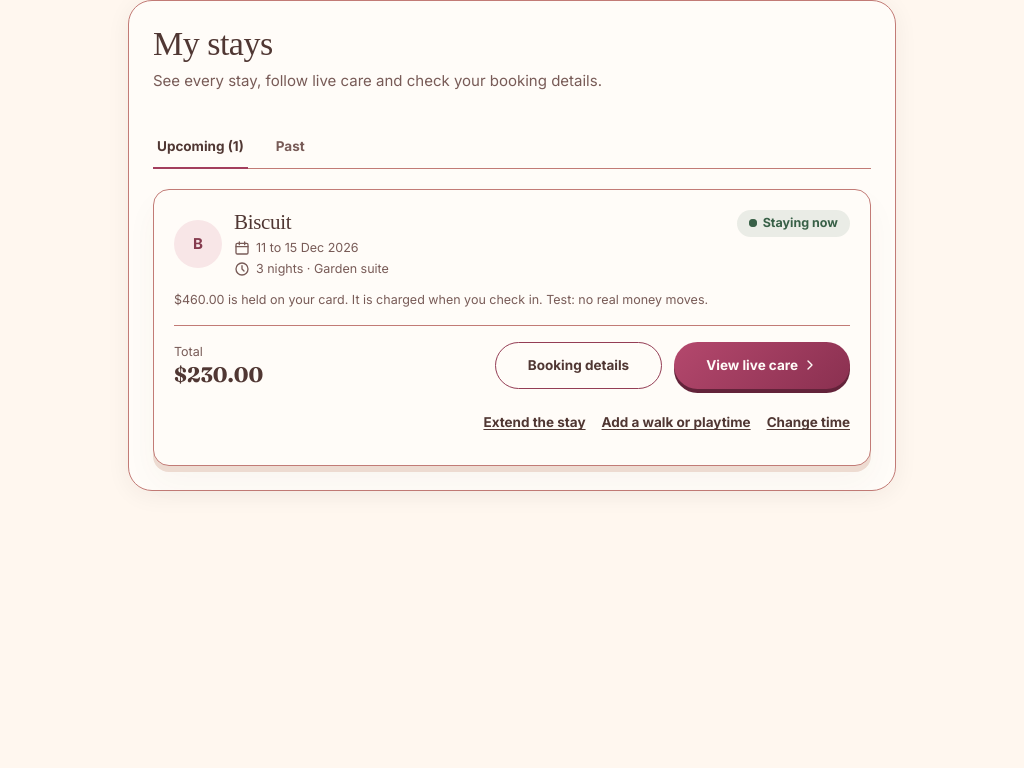
it: changes while the pet is staying › extends a booking without a saved card and puts the nights on the bill for check-out
Click the button "Extend the stay": click(534, 423) [483,401,586,445]
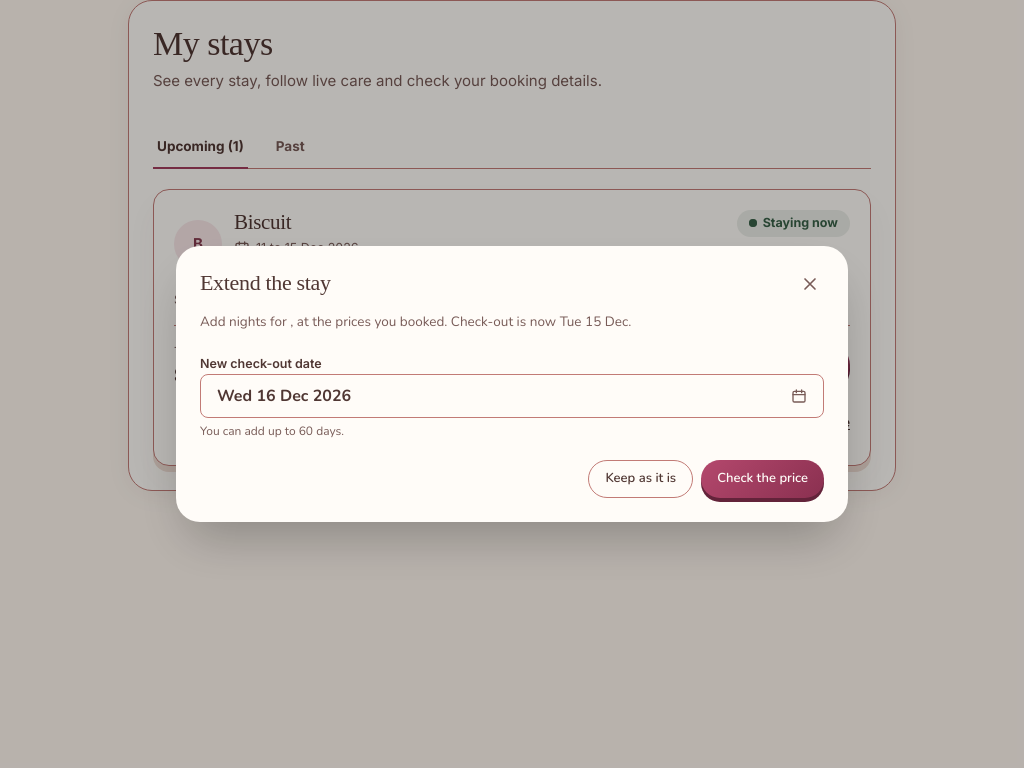
Click the button "Check the price": click(763, 479) [701,460,824,498]
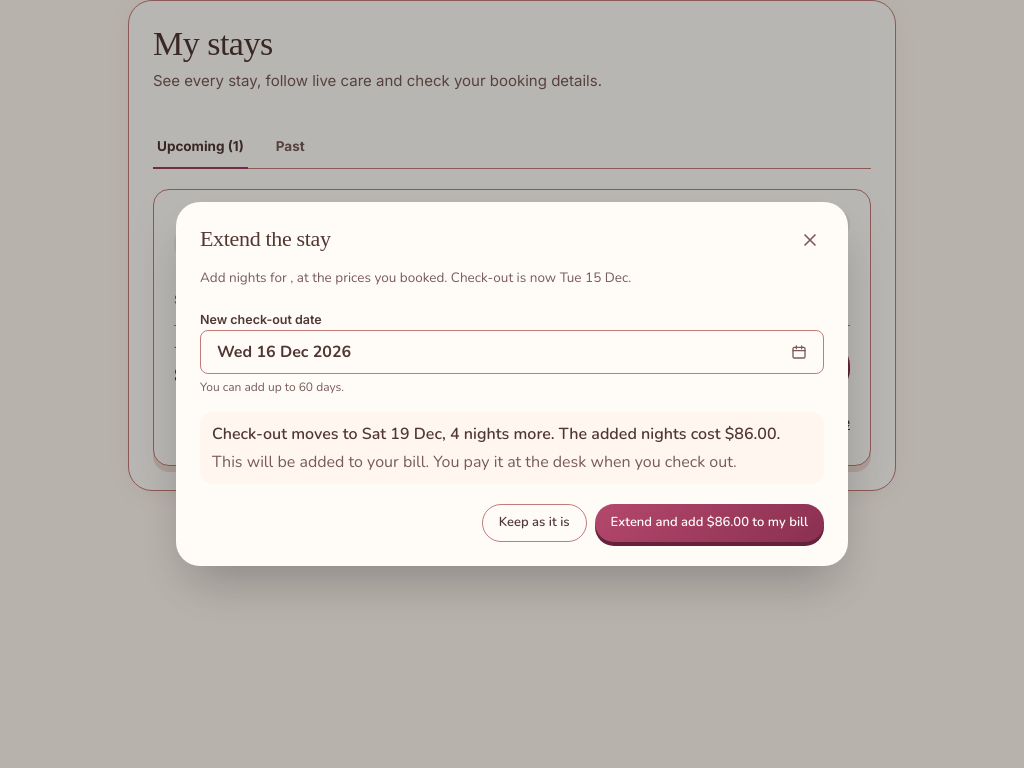
expect the message does not show "charged to your saved card": met, box [200,412,824,484]
expect the message shows "The added nights cost $86.00.": met, box [212,423,780,445]
expect the message shows "This will be added to your bill. You pay it at the desk when you check out.": met, box [212,451,737,473]
Click the button "Extend and add $86.00 to my bill": click(709, 523) [595,504,824,542]
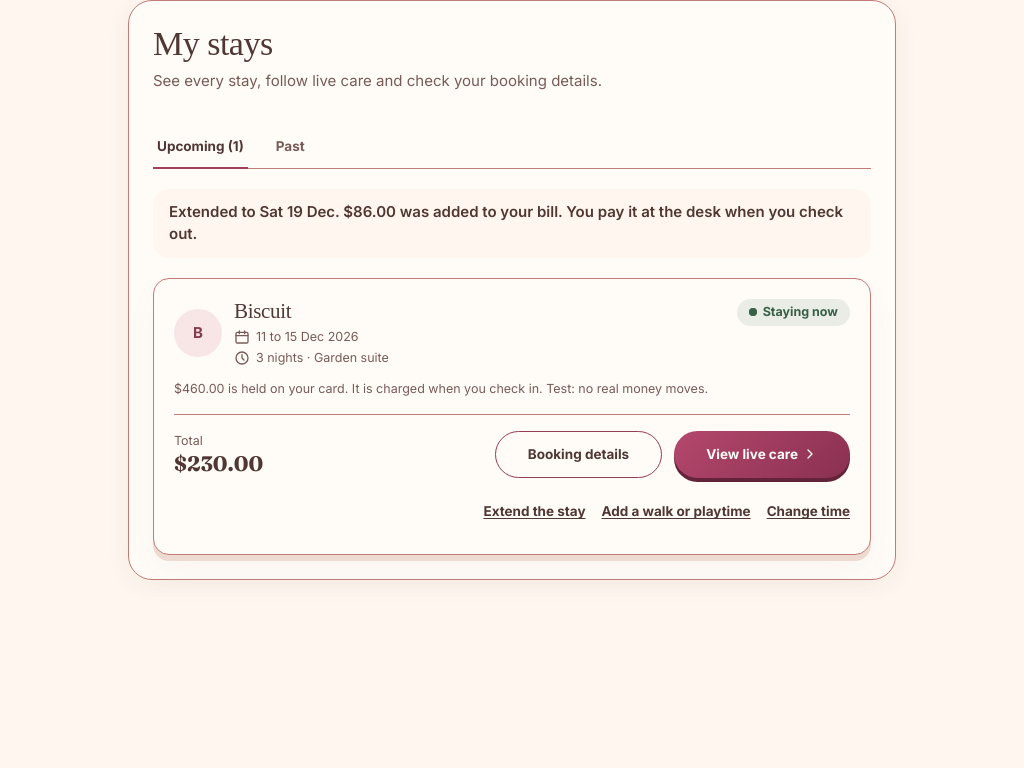
expect the message shows "Extended to Sat 19 Dec. $86.00 was added to your bill. You pay it at the desk when you check out.": met, box [169,202,843,243]
